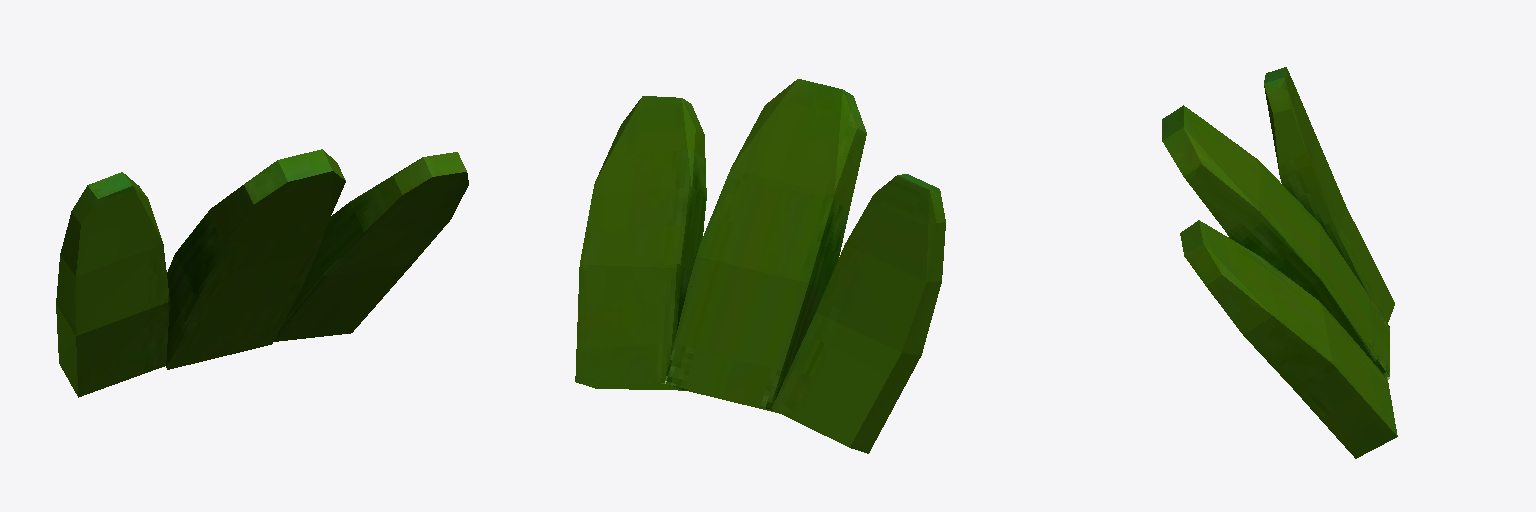
3 renders of one model, left to right at view 1: azimuth 30°, elevation 25°; view 2: azimuth 150°, elevation 25°; view 3: azimuth 270°, elevation 25°, orthographic.
Visible parts, largest first — view 1: FOL_Grass_02; view 2: FOL_Grass_02; view 3: FOL_Grass_02.
Boxes of the visible parts, box(x1,y1,x2,y2) form: FOL_Grass_02: box(56, 149, 468, 397); FOL_Grass_02: box(575, 79, 945, 453); FOL_Grass_02: box(1162, 67, 1397, 458).
Bounding box in the file's own units: 0.8093 × 0.6014 × 0.4662.
1 materials, 1 textured.